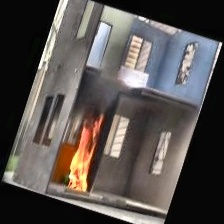fire: (55, 107, 111, 196)
